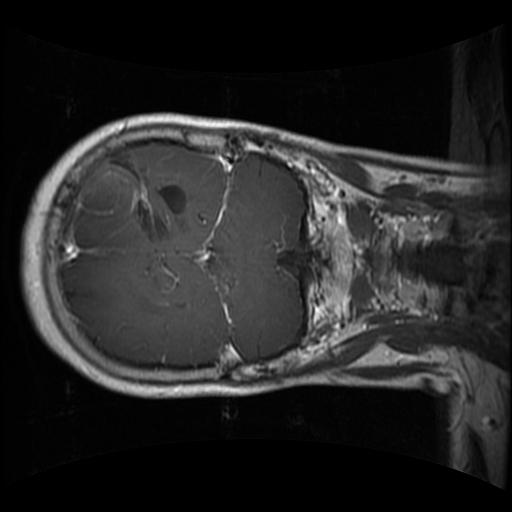glioma: (81, 154, 188, 244)
